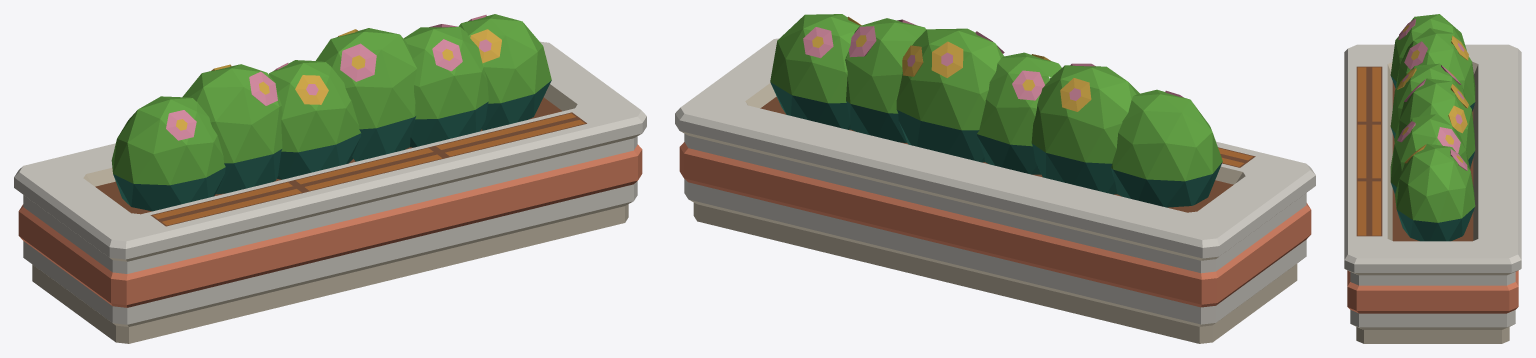
Rendered from oturak_saksi_2.glb.
The picture shows the model from 3 angles, left to right: view 1: azimuth 30°, elevation 25°; view 2: azimuth 150°, elevation 25°; view 3: azimuth 270°, elevation 25°; orthographic projection. The views are drawn at different scales.
Parts seen in each view (by area): view 1: oturak_saksi_2; view 2: oturak_saksi_2; view 3: oturak_saksi_2.
Boxes of the visible parts, box(x1,y1,x2,y2) form: oturak_saksi_2: box(14, 14, 646, 343); oturak_saksi_2: box(675, 14, 1315, 343); oturak_saksi_2: box(1344, 14, 1521, 343).
Size of the model in its own units: 2.6 by 0.96 by 0.9.
